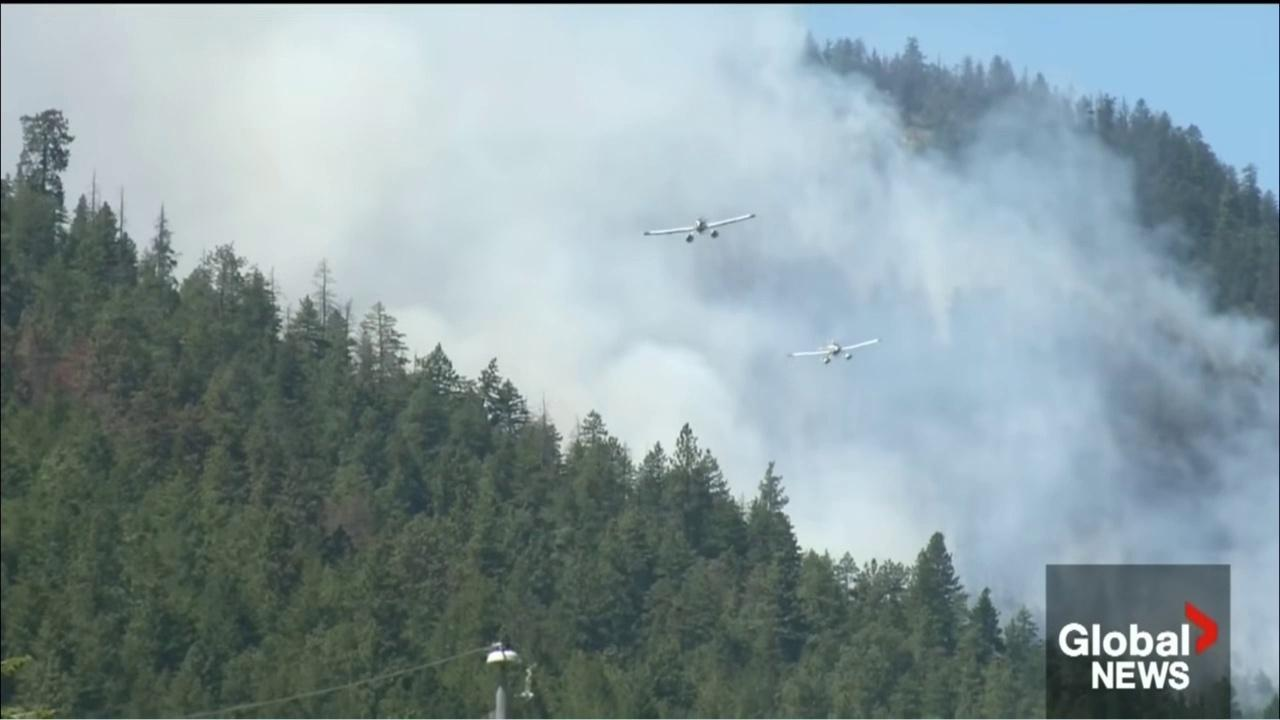smoke: (2, 3, 1280, 720)
